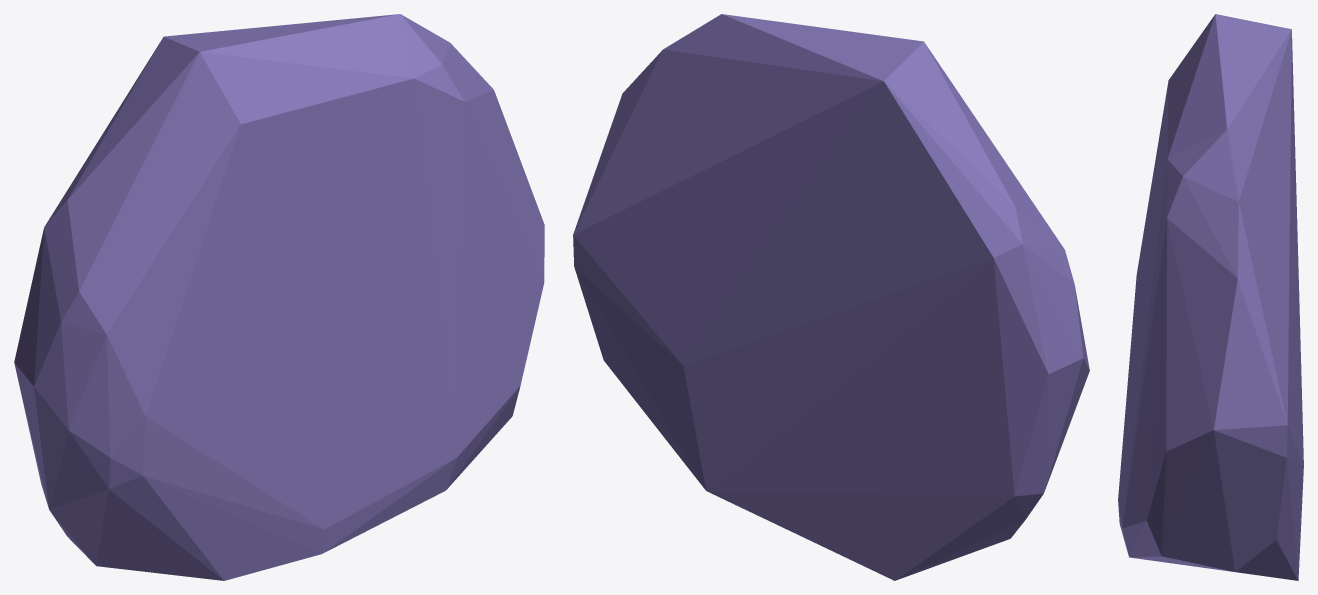
File: food_prepared_bagel_f01.glb
3 renders of one model, left to right at view 1: azimuth 30°, elevation 25°; view 2: azimuth 150°, elevation 25°; view 3: azimuth 270°, elevation 25°, orthographic. The views are drawn at different scales.
Parts seen in each view (by area): view 1: geometry_0; view 2: geometry_0; view 3: geometry_0.
Part boxes in pixels (x1,y1,x2,y2): geometry_0: [14, 14, 544, 580]; geometry_0: [573, 14, 1089, 580]; geometry_0: [1118, 14, 1303, 580].
Size of the model in its own units: 0.4248 by 0.4325 by 0.1366.
